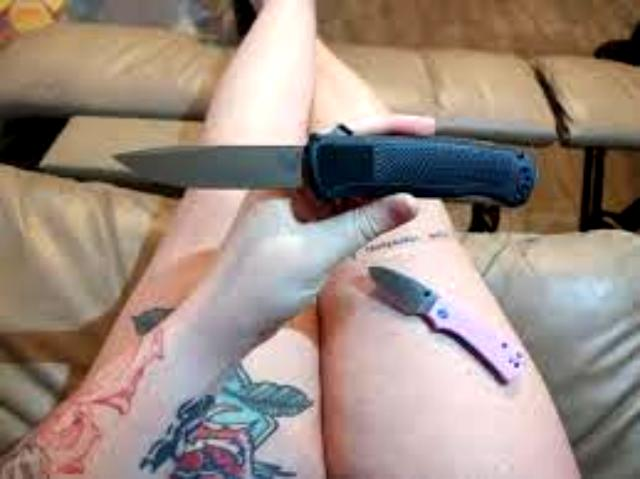pocket-knife: (100, 142, 536, 210)
